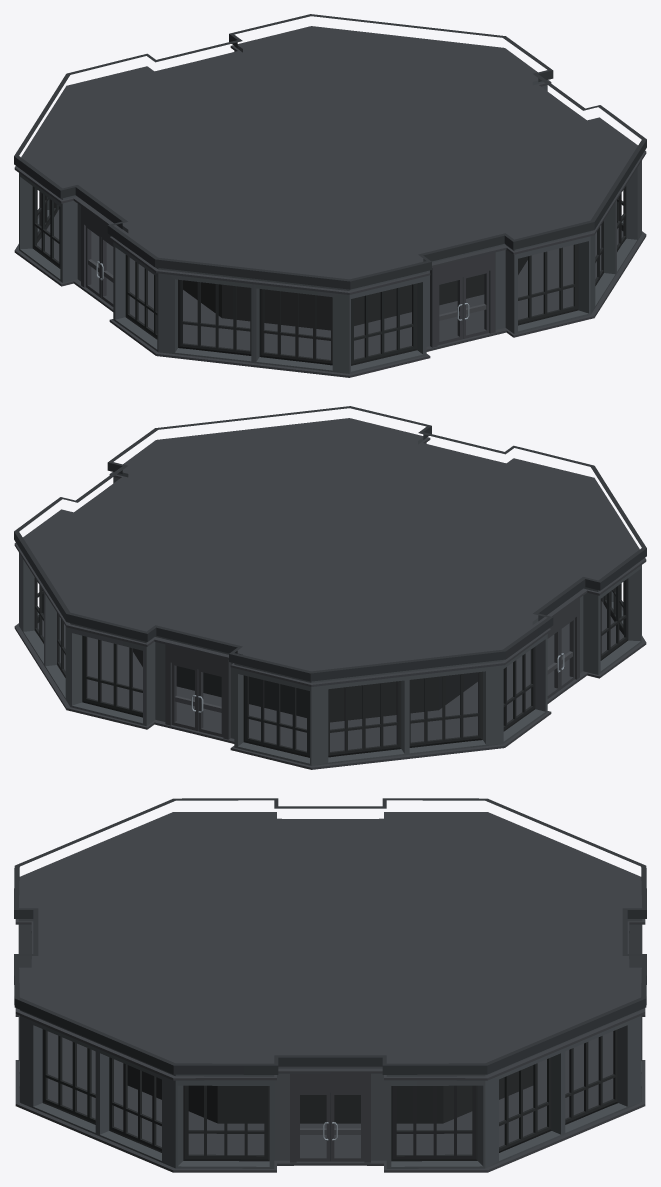
Rendered from oct_office_base.glb.
3 renders of one model, top to bottom at view 1: azimuth 30°, elevation 25°; view 2: azimuth 150°, elevation 25°; view 3: azimuth 270°, elevation 25°, orthographic. The views are drawn at different scales.
Visible parts, largest first — view 1: SM_Bld_OfficeOctagon_Base_01; view 2: SM_Bld_OfficeOctagon_Base_01; view 3: SM_Bld_OfficeOctagon_Base_01.
Part boxes in pixels (x1,y1,x2,y2): SM_Bld_OfficeOctagon_Base_01: (14, 14, 646, 377); SM_Bld_OfficeOctagon_Base_01: (14, 406, 646, 769); SM_Bld_OfficeOctagon_Base_01: (14, 798, 646, 1172).
Bounding box in the file's own units: 20.78 × 3.9 × 20.78.
1 material, 1 textured.
